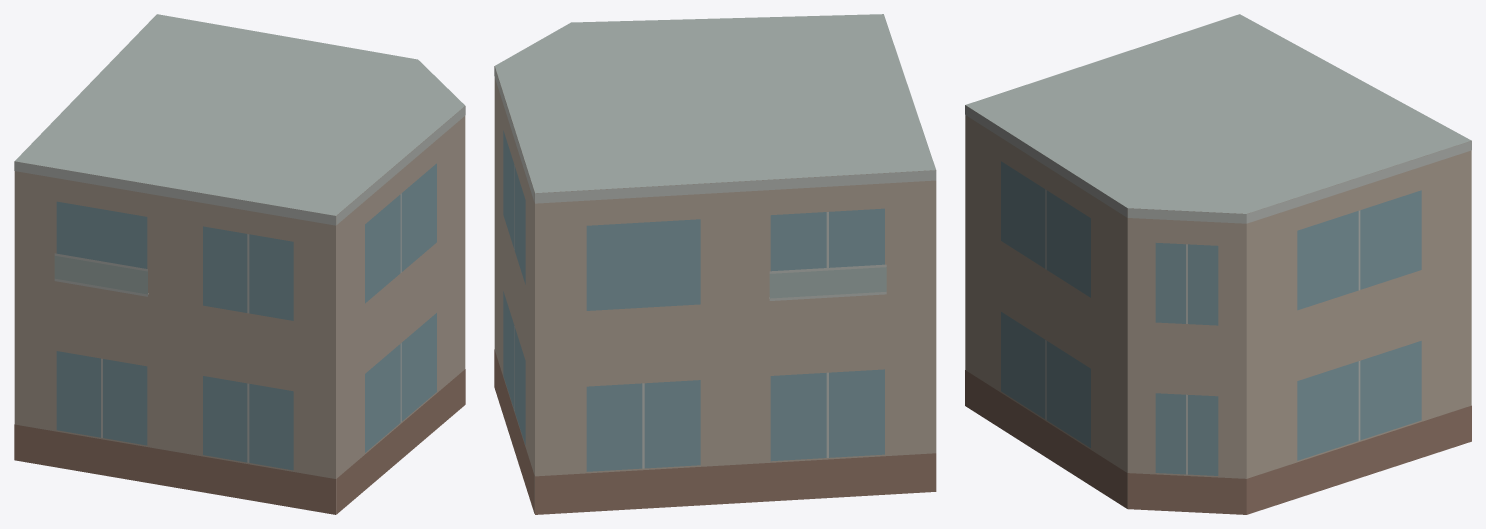
Rendered from survey-upis-33019248.glb.
3 views of the same model, side by side, from view 1: azimuth 30°, elevation 25°; view 2: azimuth 150°, elevation 25°; view 3: azimuth 270°, elevation 25° (orthographic). The views are drawn at different scales.
Parts seen in each view (by area): view 1: survey-upis-33019248.tmp; view 2: survey-upis-33019248.tmp; view 3: survey-upis-33019248.tmp.
Boxes of the visible parts, x1=… form: survey-upis-33019248.tmp: x1=14, y1=14, x2=465, y2=514; survey-upis-33019248.tmp: x1=494, y1=14, x2=936, y2=514; survey-upis-33019248.tmp: x1=965, y1=14, x2=1471, y2=514.
Bounding box in the file's own units: 10.7 × 7.5 × 11.45.
